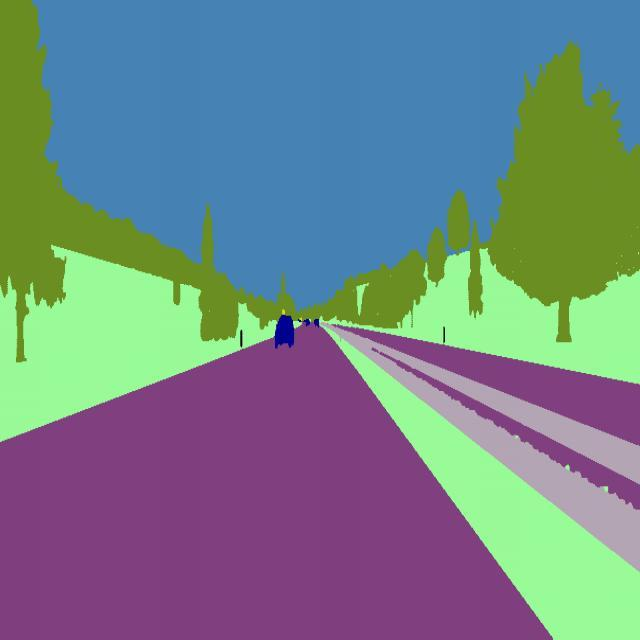safe: (271, 309, 299, 354), (312, 318, 322, 329)
